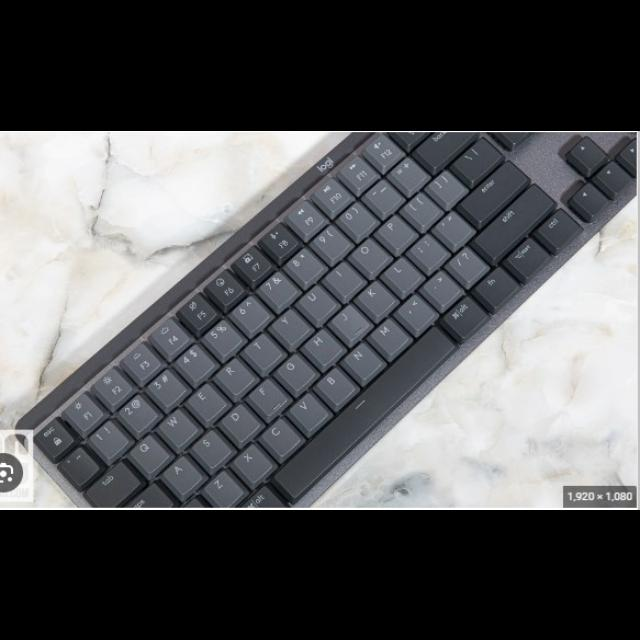Computer-Keyboard: (15, 131, 640, 509)
